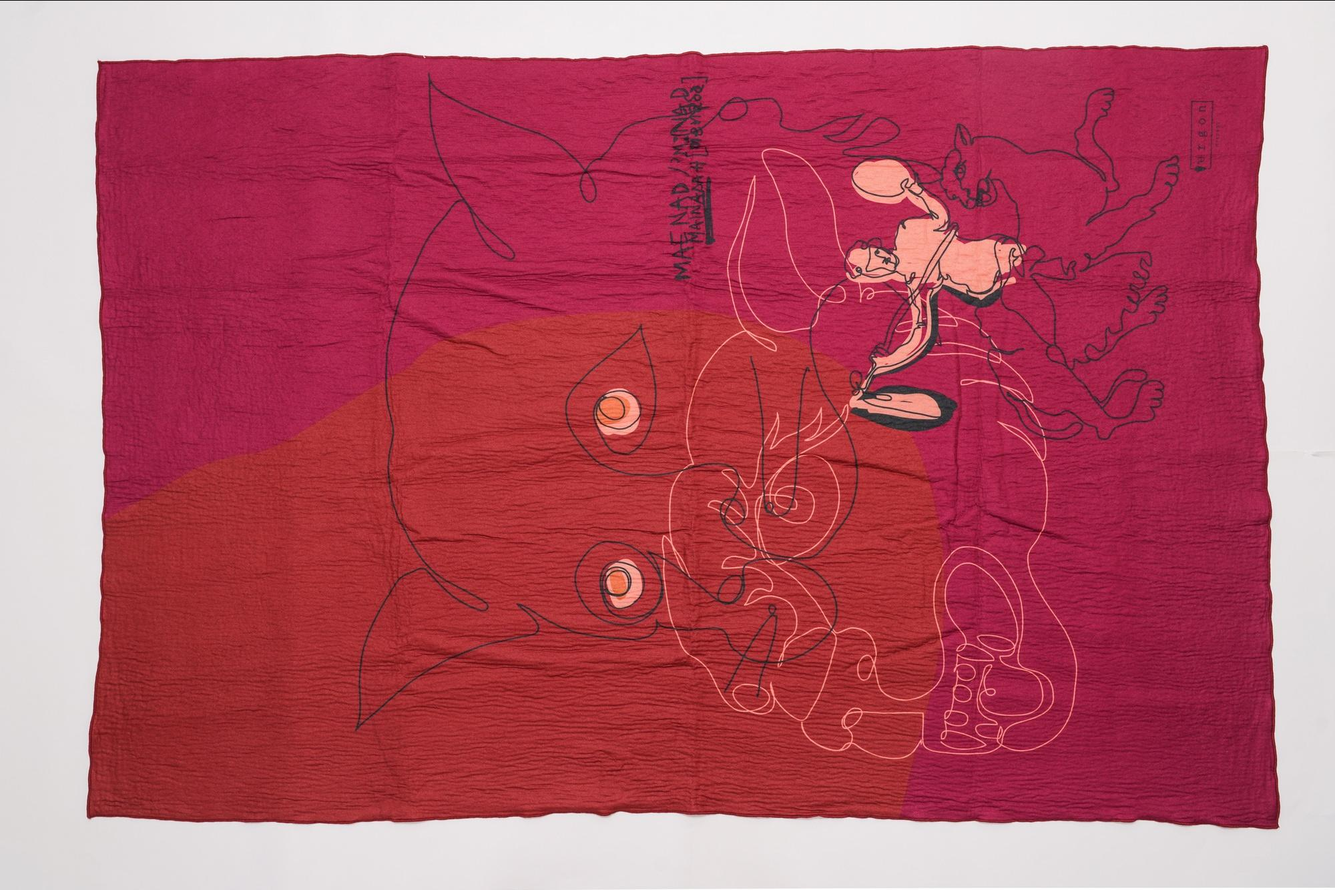Towel: (62, 40, 814, 850)
